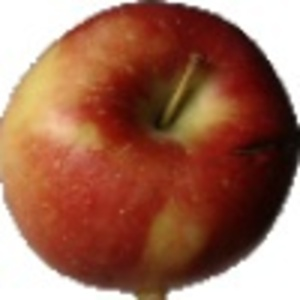maçã braeburn: (1, 1, 300, 293)
